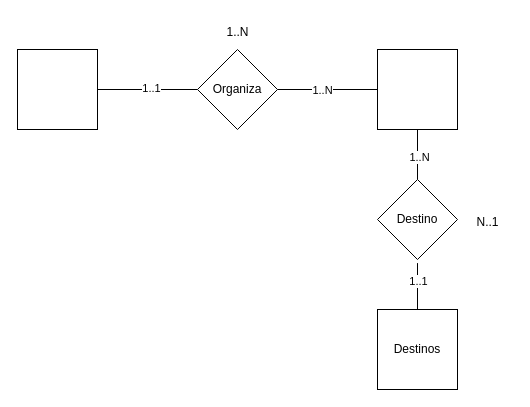
This 530x407 diagram has some shape labels left out. The shapes that lost their labels are listed below. From the top down, each one's centre as x and y in pixels, then its label:
(x=57, y=89): Usuarios
(x=417, y=89): Viajes
